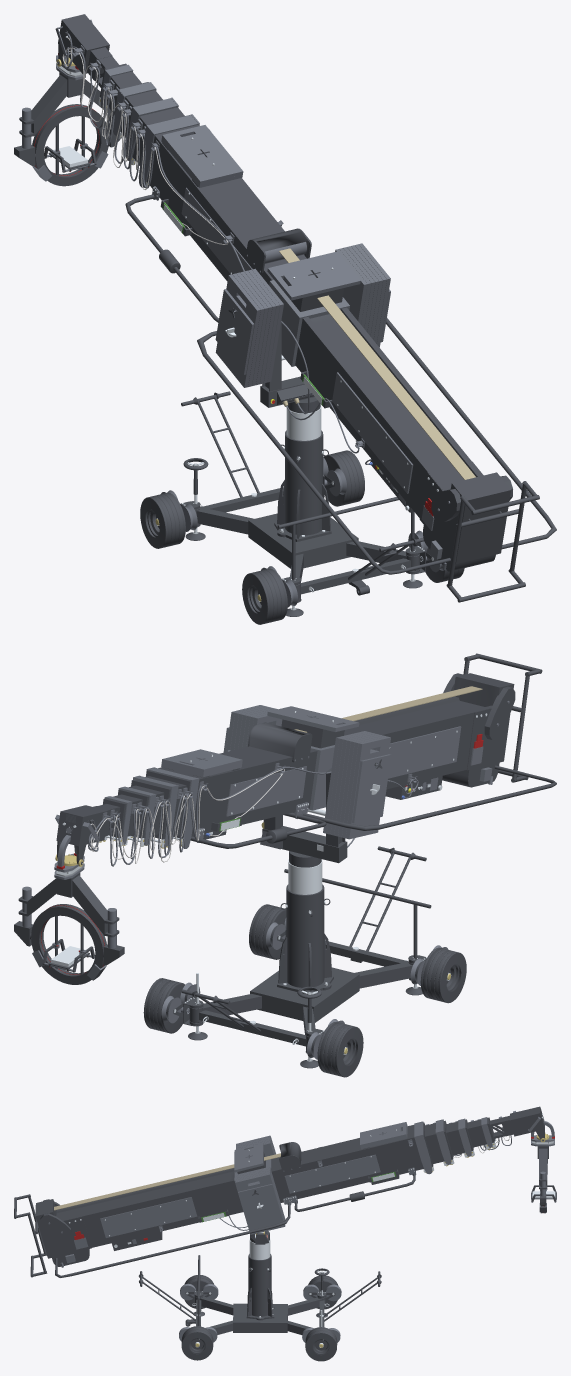
File: operator.fbx
The picture shows the model from 3 angles, top to bottom: view 1: azimuth 30°, elevation 25°; view 2: azimuth 150°, elevation 25°; view 3: azimuth 270°, elevation 25°; orthographic projection. The views are drawn at different scales.
Visible parts, largest first — view 1: BezierCurve.002; view 2: BezierCurve.002; view 3: BezierCurve.002.
Part boxes in pixels (<box>): BezierCurve.002: <box>14,14,556,624</box>; BezierCurve.002: <box>14,653,556,1077</box>; BezierCurve.002: <box>14,1106,556,1361</box>.
Bounding box in the file's own units: 253 × 451 × 992.
